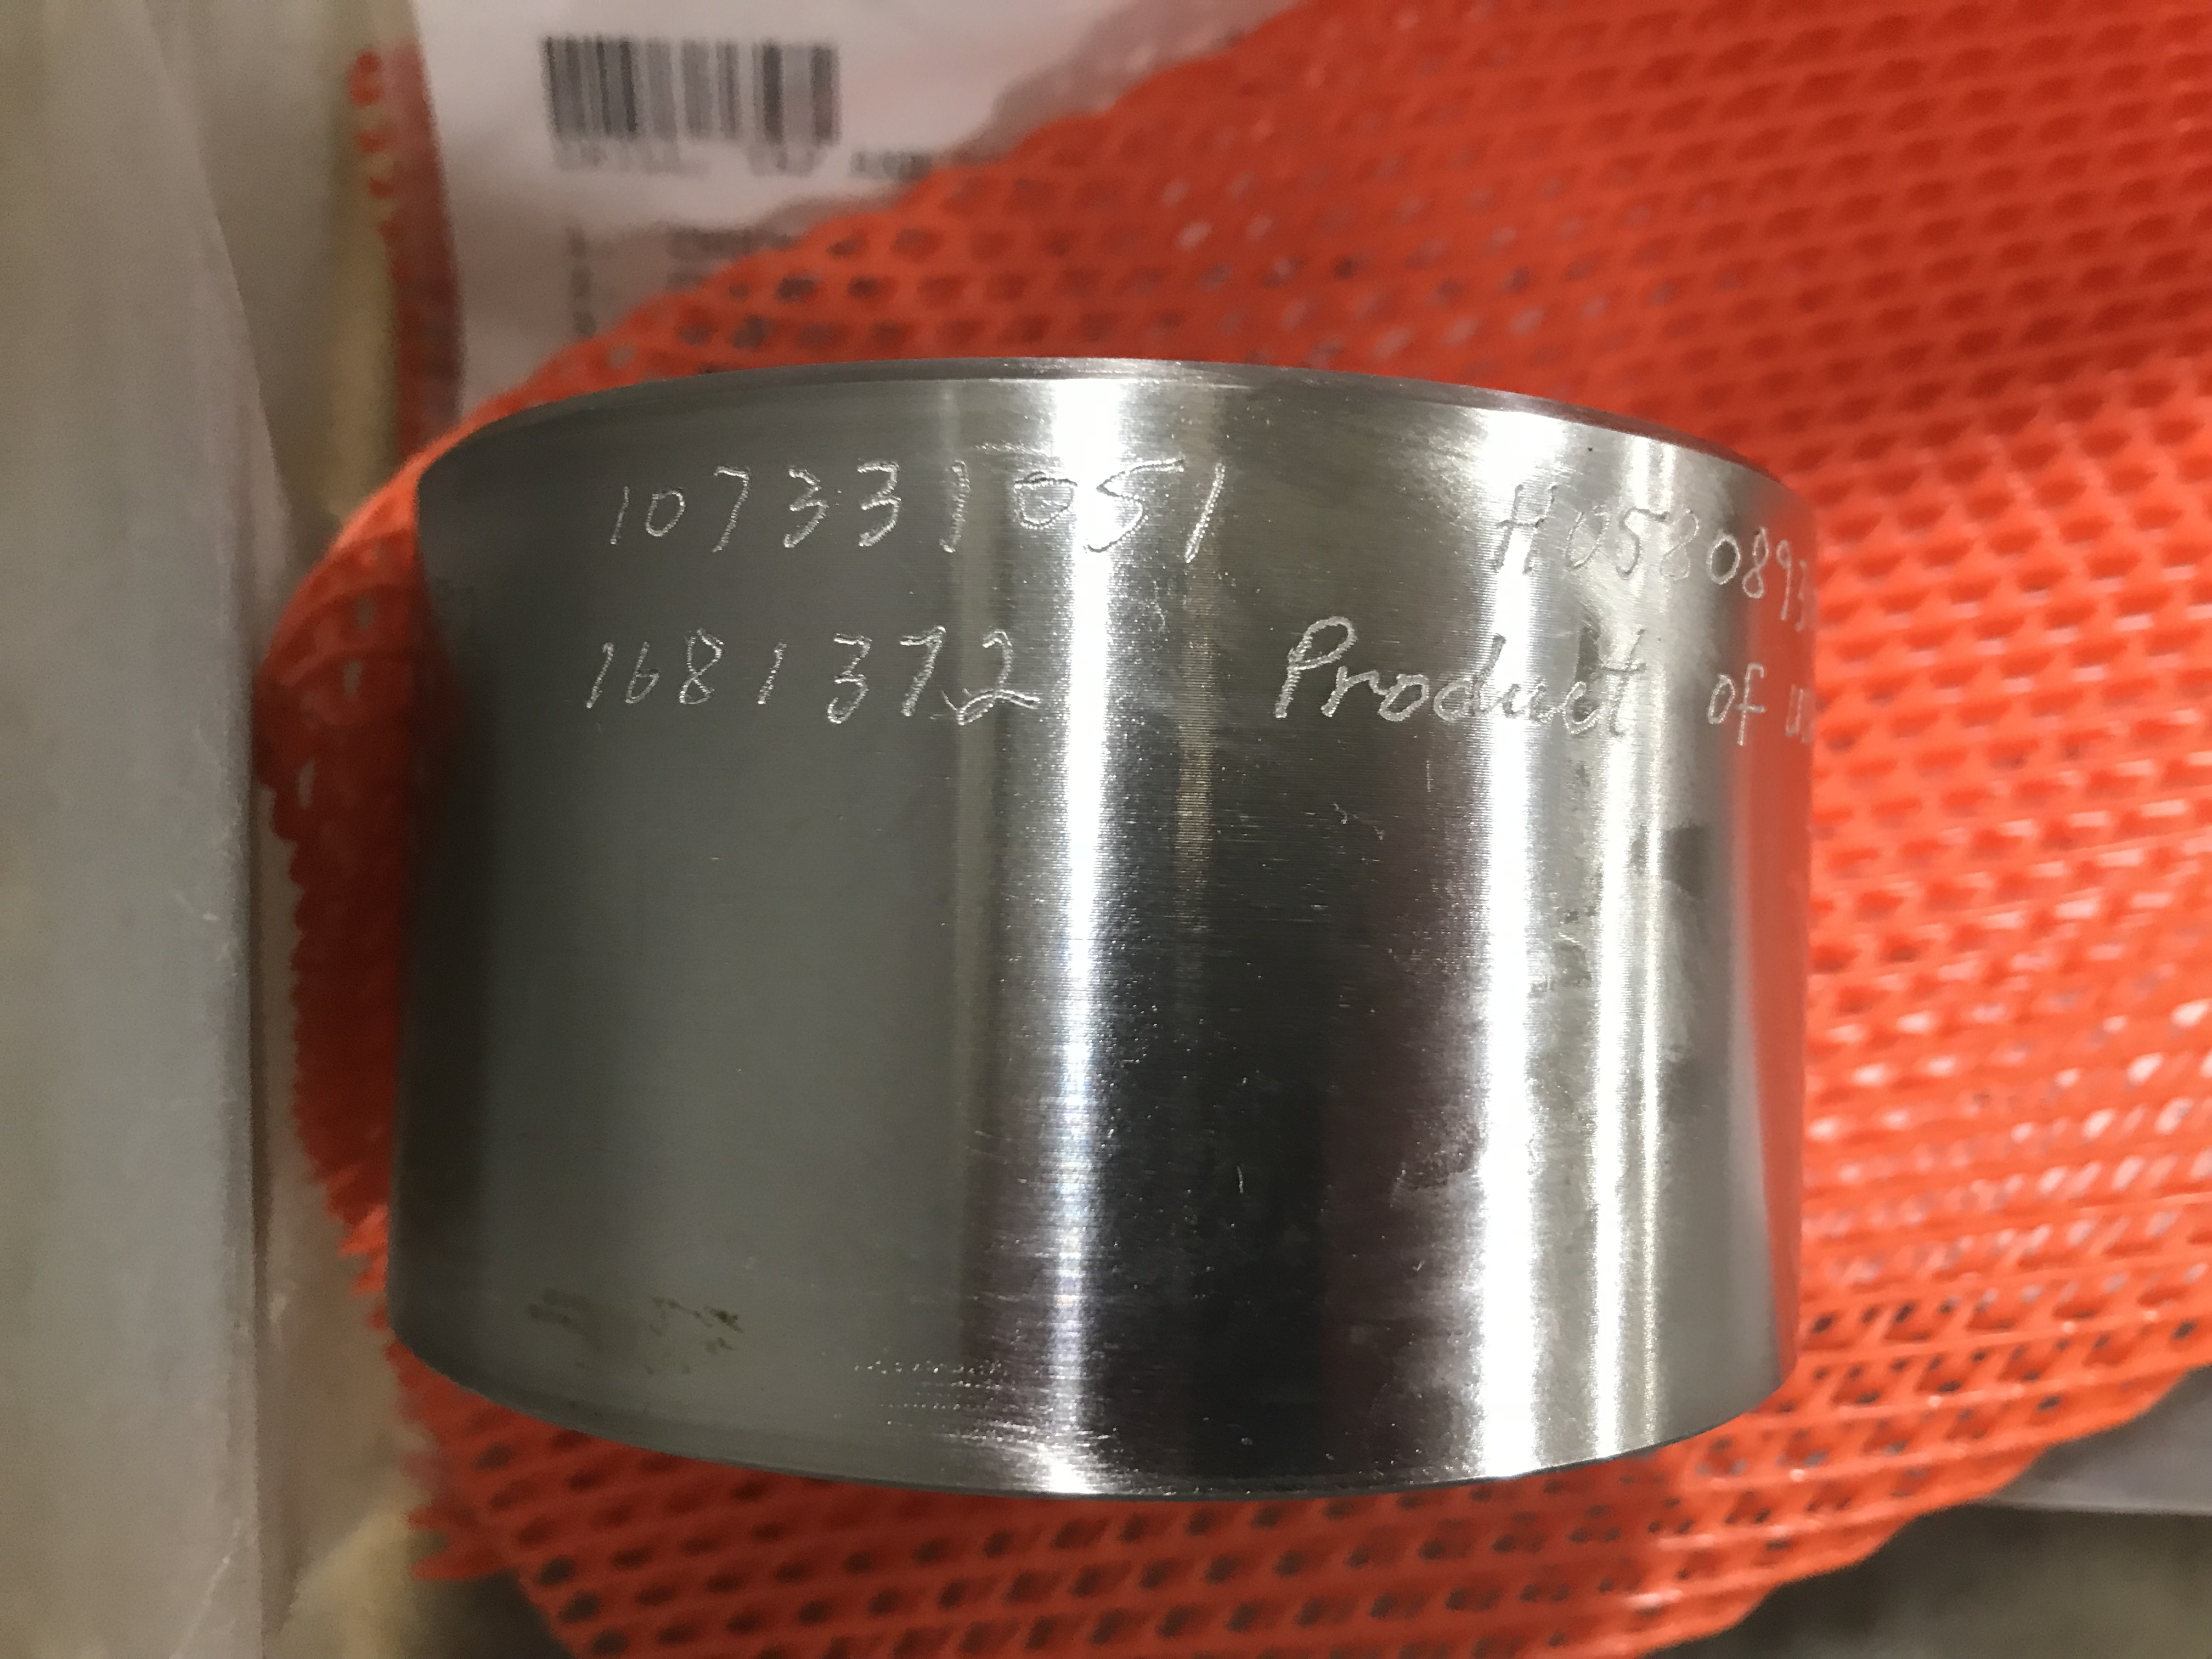character: (1089, 453, 1190, 566), (1271, 603, 1355, 727), (953, 622, 1042, 734), (1433, 624, 1508, 742), (1484, 474, 1561, 582), (1601, 617, 1649, 755), (1184, 450, 1235, 572), (1012, 462, 1083, 545), (850, 455, 909, 549), (709, 458, 763, 561), (817, 631, 873, 730), (676, 622, 730, 721), (779, 458, 836, 549), (935, 453, 986, 556), (895, 619, 944, 723), (747, 633, 805, 720), (1318, 659, 1381, 732), (1561, 498, 1615, 577), (1618, 500, 1669, 584), (1501, 666, 1552, 744), (1378, 666, 1432, 739), (1658, 504, 1703, 591), (575, 640, 624, 716), (1554, 676, 1606, 746), (624, 636, 665, 721), (644, 479, 690, 547), (1691, 667, 1735, 734), (604, 474, 636, 554)
